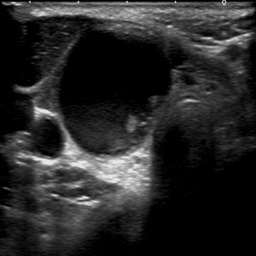mass: (60, 28, 173, 155)
